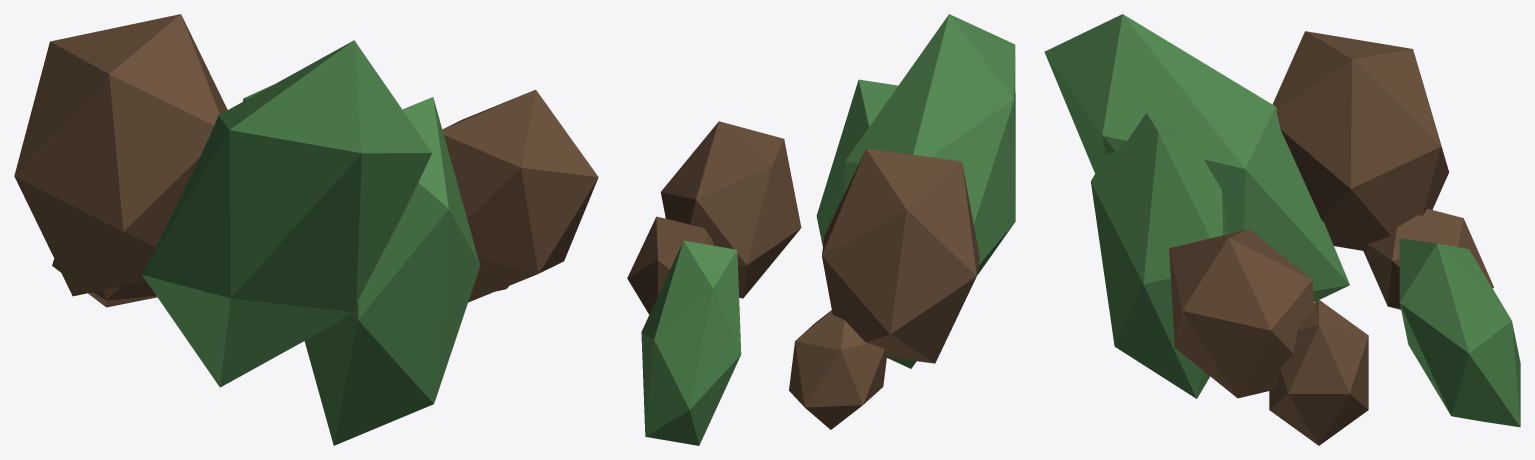
Rendered from cascade_rock_stack.glb.
3 views of the same model, side by side, from view 1: azimuth 30°, elevation 25°; view 2: azimuth 150°, elevation 25°; view 3: azimuth 270°, elevation 25° (orthographic). The views are drawn at different scales.
Visible parts, largest first — view 1: rock_5, rock_2, rock_1, rock_4, rock_6; view 2: rock_2, rock_5, rock_3, rock_4, rock_6, rock_1, rock_0; view 3: rock_5, rock_2, rock_1, rock_4, rock_3, rock_0, rock_6.
Boxes of the visible parts, x1,y1,x2,y2 form: rock_5: [142, 40, 431, 387]; rock_2: [14, 14, 227, 296]; rock_1: [304, 97, 480, 445]; rock_4: [442, 89, 598, 302]; rock_6: [52, 259, 156, 307]; rock_2: [822, 148, 979, 363]; rock_5: [844, 14, 1015, 368]; rock_3: [641, 240, 741, 445]; rock_4: [660, 121, 801, 298]; rock_6: [789, 310, 887, 429]; rock_1: [816, 79, 897, 246]; rock_0: [627, 216, 714, 314]; rock_5: [1044, 14, 1349, 302]; rock_2: [1272, 31, 1449, 250]; rock_1: [1091, 112, 1228, 398]; rock_4: [1169, 229, 1314, 398]; rock_3: [1399, 238, 1520, 427]; rock_0: [1269, 300, 1368, 445]; rock_6: [1363, 208, 1493, 309].
Size of what is drawn, in the model's own units: 2.44 by 2.15 by 2.56.
